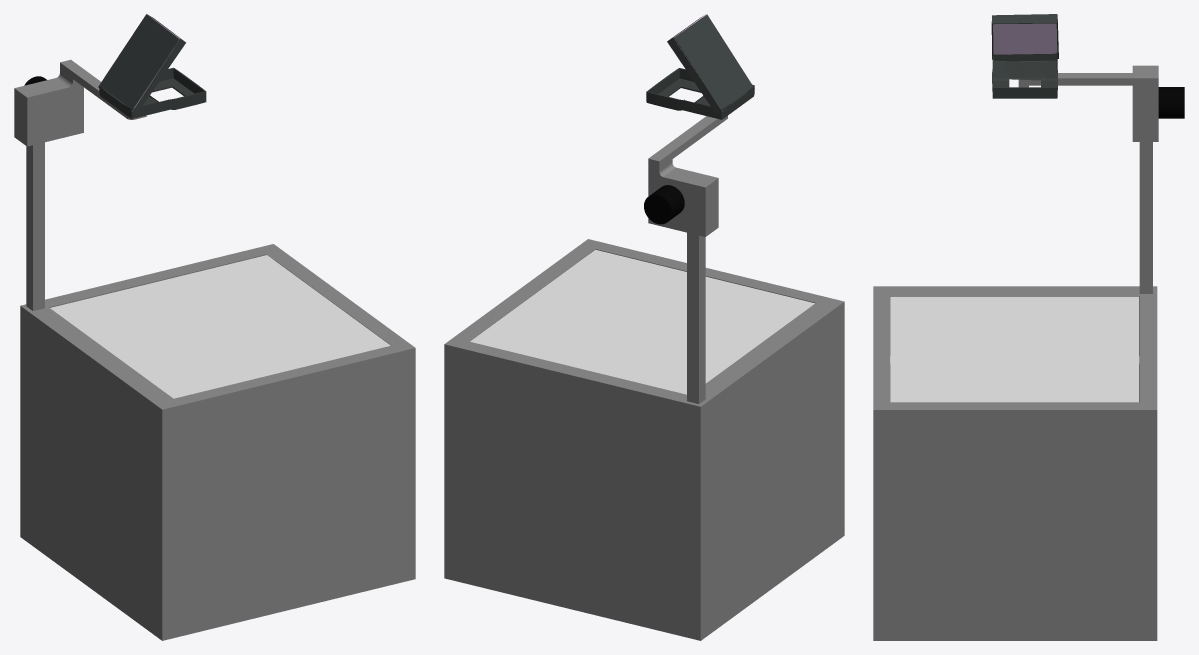
Rendered from OHP.fbx.
3 views of the same model, side by side, from view 1: azimuth 30°, elevation 25°; view 2: azimuth 150°, elevation 25°; view 3: azimuth 270°, elevation 25° (orthographic).
Visible parts, largest first — view 1: Cube, Fläche, Würfel, Klappbarer Spiegel.001, Cube.001, Klappbarer Spiegel; view 2: Cube, Fläche, Würfel, Klappbarer Spiegel.001, Cube.001, Klappbarer Spiegel, Knopf; view 3: Cube, Fläche, Würfel, Klappbarer Spiegel, Klappbarer Spiegel.001, Cube.001, Knopf.
Part boxes in pixels (x1,y1,x2,y2): Cube: (20, 244, 415, 640); Fläche: (50, 255, 390, 398); Würfel: (14, 59, 146, 146); Klappbarer Spiegel.001: (98, 14, 185, 114); Cube.001: (26, 142, 44, 310); Klappbarer Spiegel: (99, 67, 206, 118); Cube: (444, 239, 844, 640); Fläche: (470, 249, 814, 394); Würfel: (648, 116, 727, 236); Klappbarer Spiegel.001: (667, 14, 754, 114); Cube.001: (687, 232, 705, 403); Klappbarer Spiegel: (646, 68, 754, 119); Knopf: (644, 185, 684, 224); Cube: (873, 286, 1157, 640); Fläche: (890, 296, 1138, 402); Würfel: (1018, 65, 1158, 141); Klappbarer Spiegel: (992, 52, 1057, 98); Klappbarer Spiegel.001: (991, 14, 1058, 59); Cube.001: (1139, 142, 1152, 293); Knopf: (1158, 87, 1184, 118).
Bounding box in the file's own units: 377 × 754 × 393.
